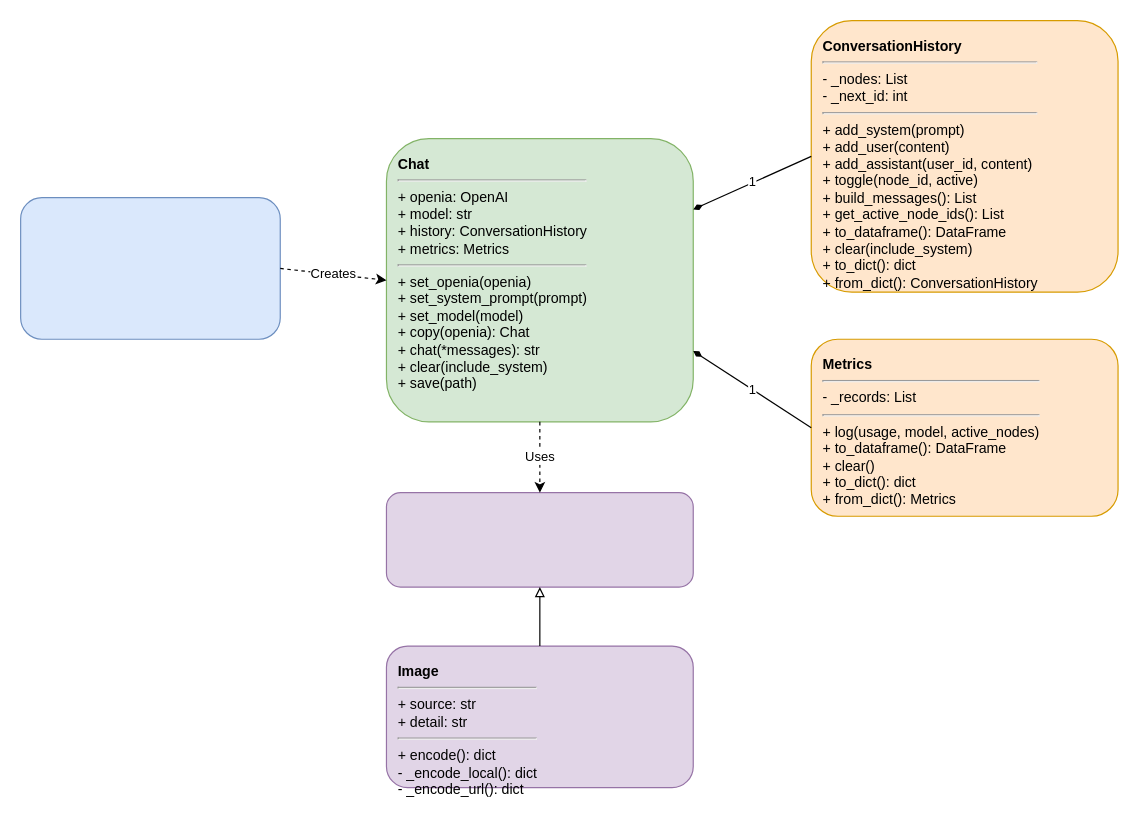
This 1139x819 diagram has some shape labels left out. Each missing label, with the centre of its shape:
<<Abstract>> ContentPart + encode(): dict: (539,539)
Client + openia: OpenAI + chat(model, prompt): Chat + load_chat(path): Chat: (149,267)
